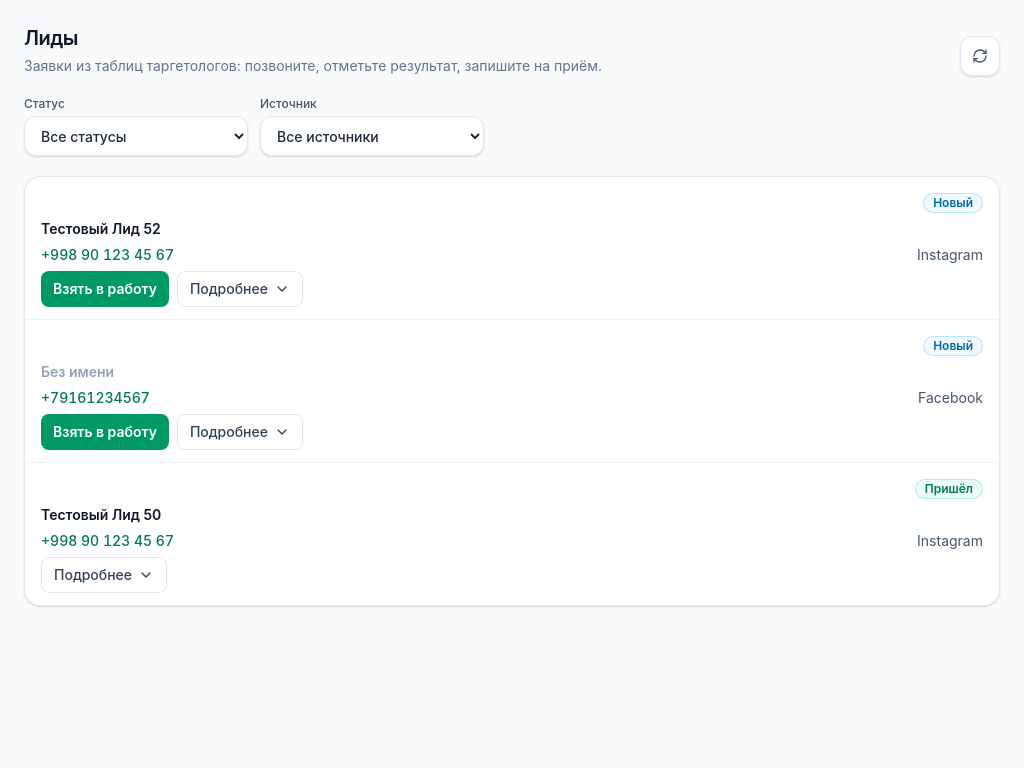
staff leads page › shows the server's message for any other failure and does not reload
Click the button "Взять в работу" below "Тестовый Лид 52": [105, 289] box [41,271,169,307]
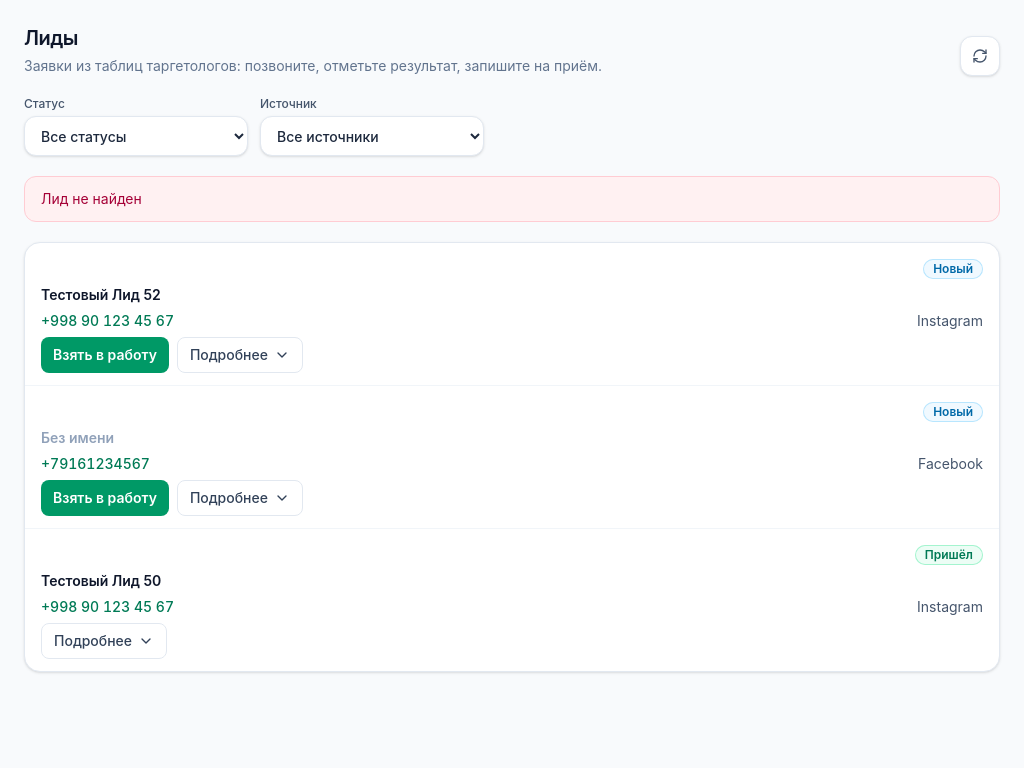
Check: the message "Лид не найден" is shown, box [24,176,1000,222]
